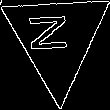N_E: (33, 17, 80, 60)
